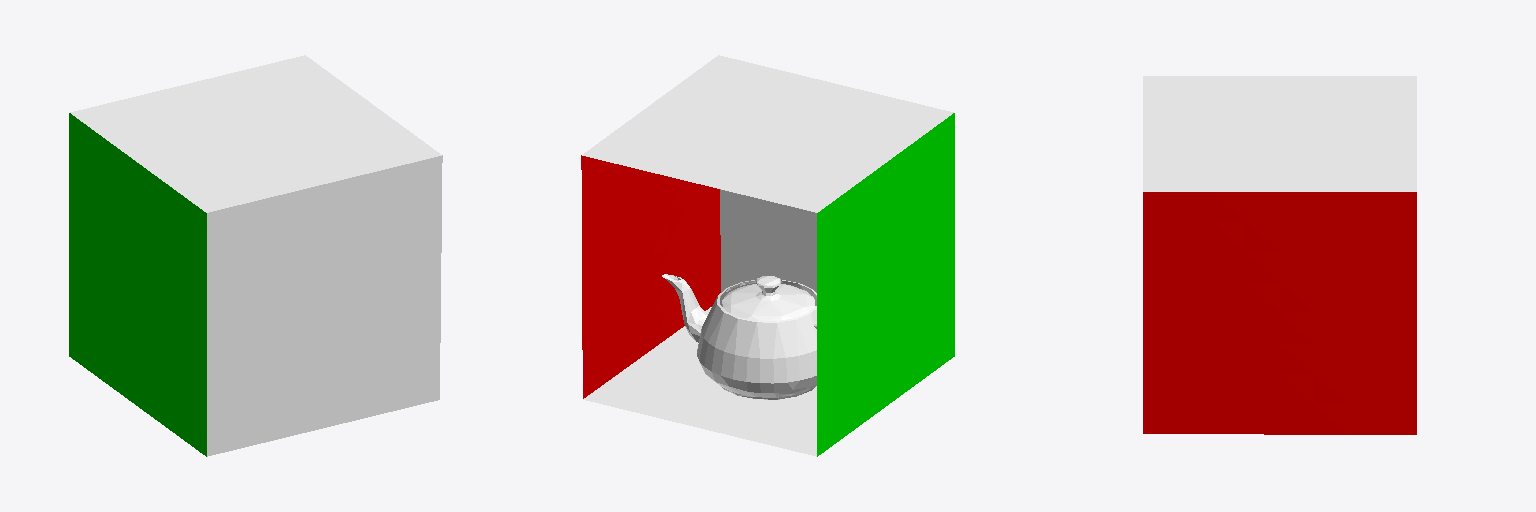
Rendered from pot_box.obj.
3 views of the same model, side by side, from view 1: azimuth 30°, elevation 25°; view 2: azimuth 150°, elevation 25°; view 3: azimuth 270°, elevation 25° (orthographic).
Parts seen in each view (by area): view 1: back_wall, green_wall, ceiling; view 2: green_wall, ceiling, red_wall, teapot, floor, back_wall; view 3: red_wall, ceiling.
Boxes of the visible parts, <box> form: back_wall: <box>207,155,442,456</box>; green_wall: <box>69,113,206,456</box>; ceiling: <box>70,55,441,212</box>; green_wall: <box>817,113,954,456</box>; ceiling: <box>582,55,953,212</box>; red_wall: <box>581,155,720,398</box>; teapot: <box>662,274,816,399</box>; floor: <box>583,307,816,456</box>; back_wall: <box>720,189,816,292</box>; red_wall: <box>1143,192,1416,434</box>; ceiling: <box>1143,76,1416,191</box>.
Size of the model in its own units: 556 by 549 by 559.